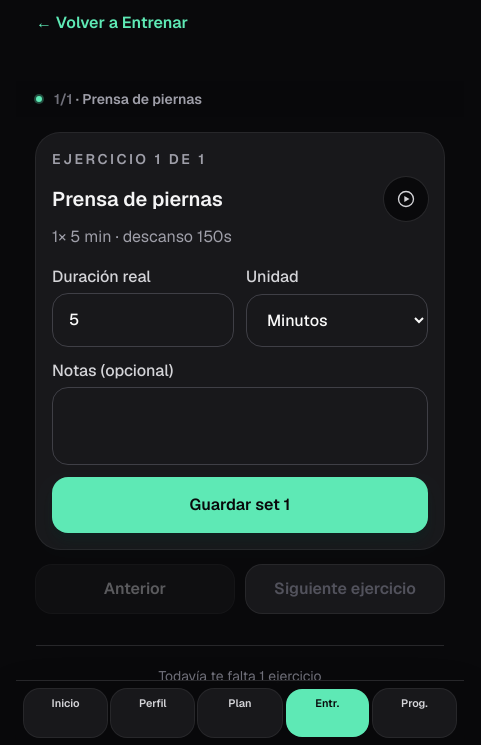
Test: SessionRunner › logs a duration-type exercise in minutes and converts it to seconds for submission
Expected: the number field labelled "Duración real" holds "5", [52,293,234,347]
Select "Segundos" in the dropdown labelled "Unidad" at [337, 320], box [246,294,428,347]
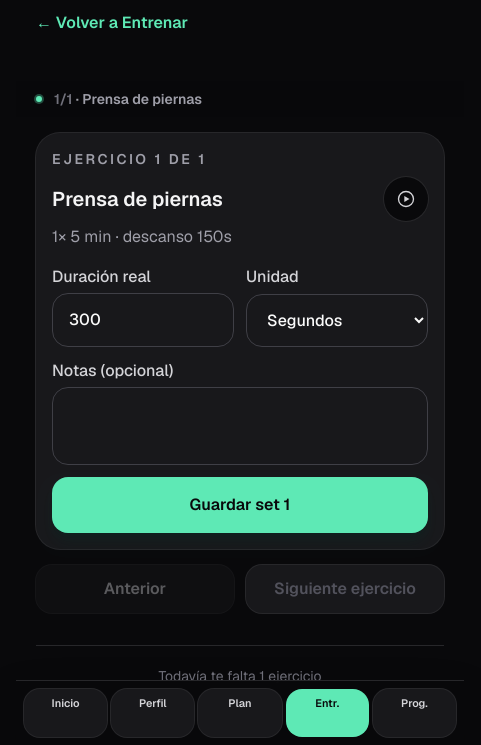
Expected: the element showing "Duración real Unidad" holds "300", [52,265,428,347]
Now the number field labelled "Duración real" holds "300", box [52,293,234,347]
